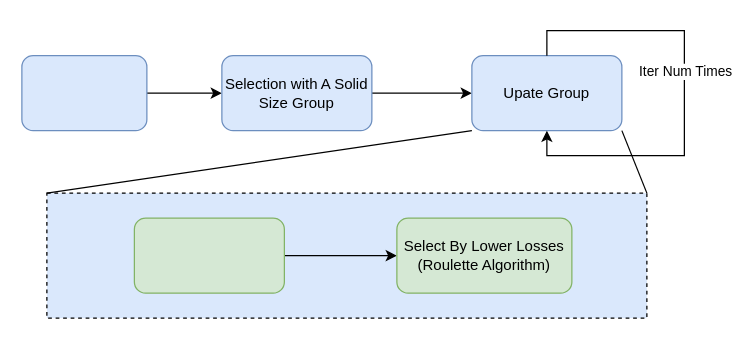
The diagram is 754 pixels wide and 340 high, and some of its shapes have lost their labels. The shapes that lost their labels are listed below. From the top down, each one's box as (x1, y1, x2, y2) in pixels, then its label:
(21, 54, 147, 131): Initial A Big Pool Randomly
(133, 217, 284, 293): Add 10% New (Cross + Mutation)
